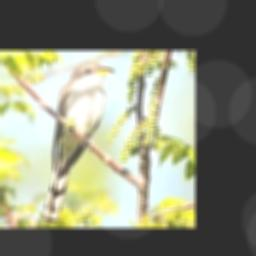Cuckoo: (41, 62, 115, 223)
